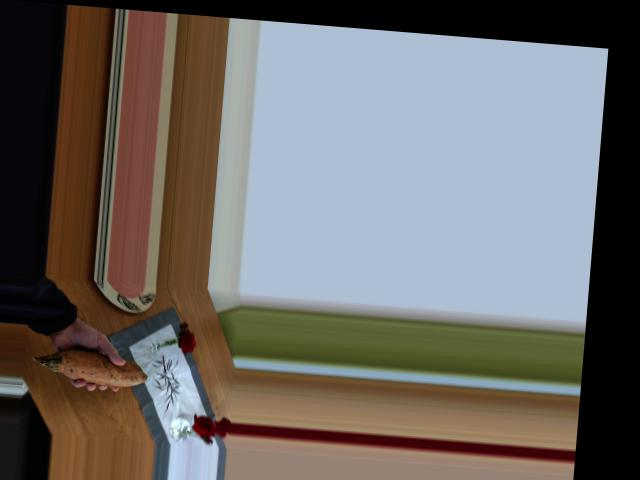sweet_potato: (40, 337, 152, 393)
